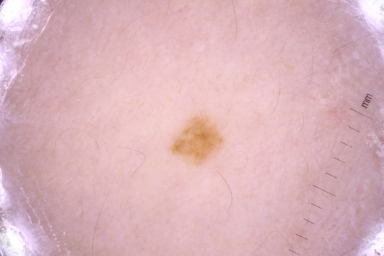nevus: (176, 117, 221, 161)
